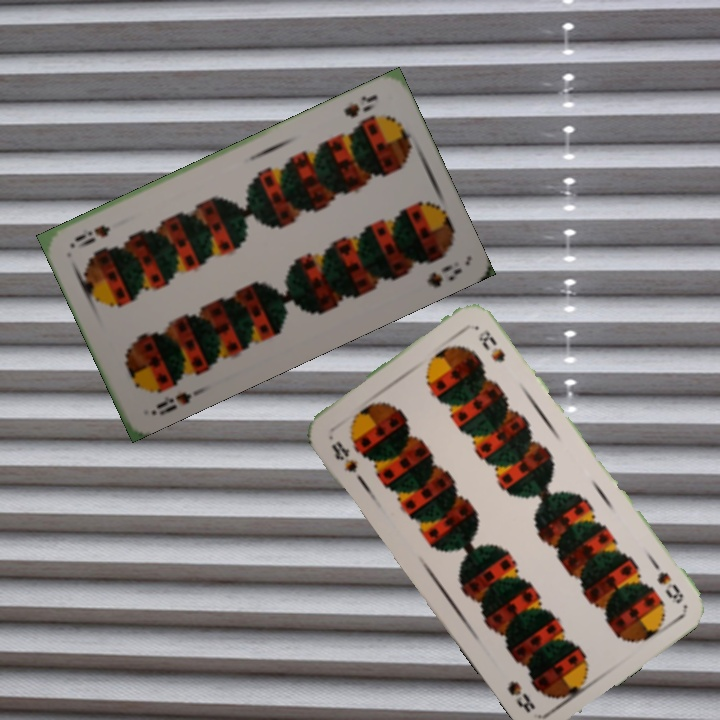S8: (646, 554, 687, 607), (327, 436, 361, 476), (340, 90, 380, 121), (152, 388, 194, 412)
